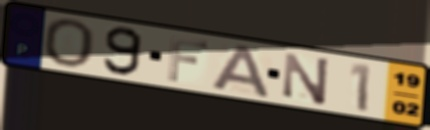1: (349, 62, 374, 114)
9: (103, 26, 145, 77)
A: (209, 43, 274, 100)
F: (165, 34, 211, 84)
N: (281, 50, 332, 108)
O: (41, 18, 97, 69)
